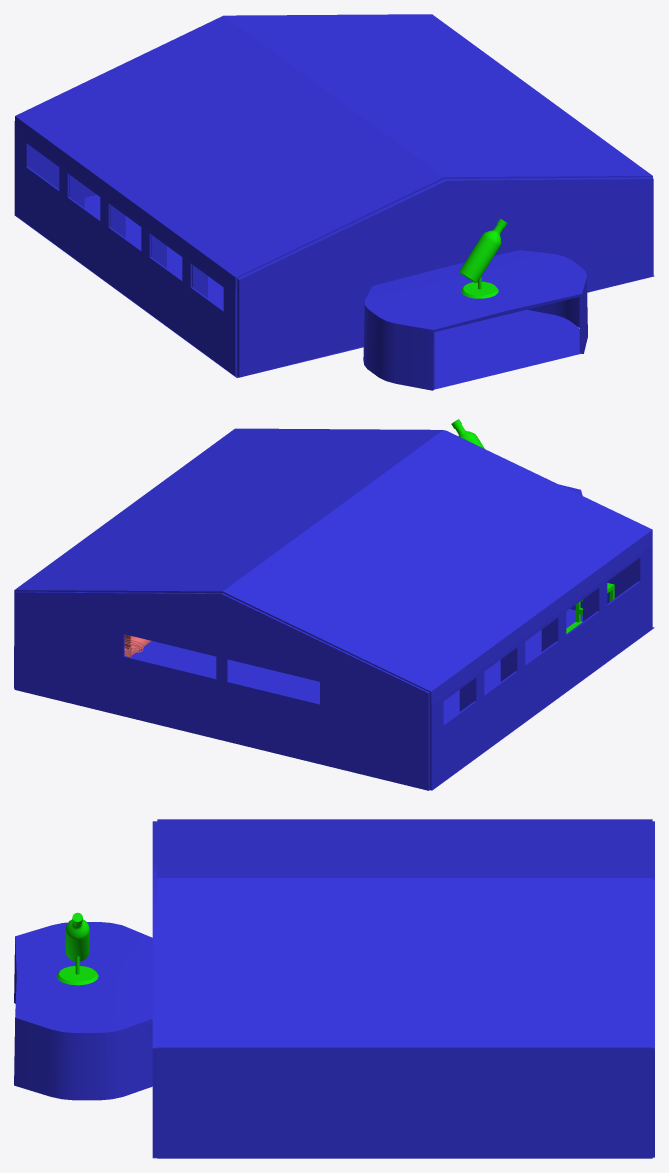
The model's file is HangarViti.fbx.
3 views of the same model, one above another, from view 1: azimuth 30°, elevation 25°; view 2: azimuth 150°, elevation 25°; view 3: azimuth 270°, elevation 25° (orthographic). The views are drawn at different scales.
Parts seen in each view (by area): view 1: Roof, Entrance, Floor, Supports, Piedestal; view 2: Roof, Back, Floor, Supports, Entrance; view 3: Roof, Entrance, Piedestal, Back.
Boxes of the visible parts, x1,y1,x2,y2 form: Roof: (14,14,652,376); Entrance: (237,177,653,390); Floor: (14,195,654,389); Supports: (28,145,207,297); Piedestal: (459,218,507,298); Roof: (14,428,652,790); Back: (14,591,429,790); Floor: (131,609,654,790); Supports: (459,559,638,711); Entrance: (445,430,652,626); Roof: (157,819,652,1158); Entrance: (14,821,157,1157); Piedestal: (56,912,98,985); Back: (652,821,654,1157).
Size of the model in its own units: 4486 by 1680 by 5306.
